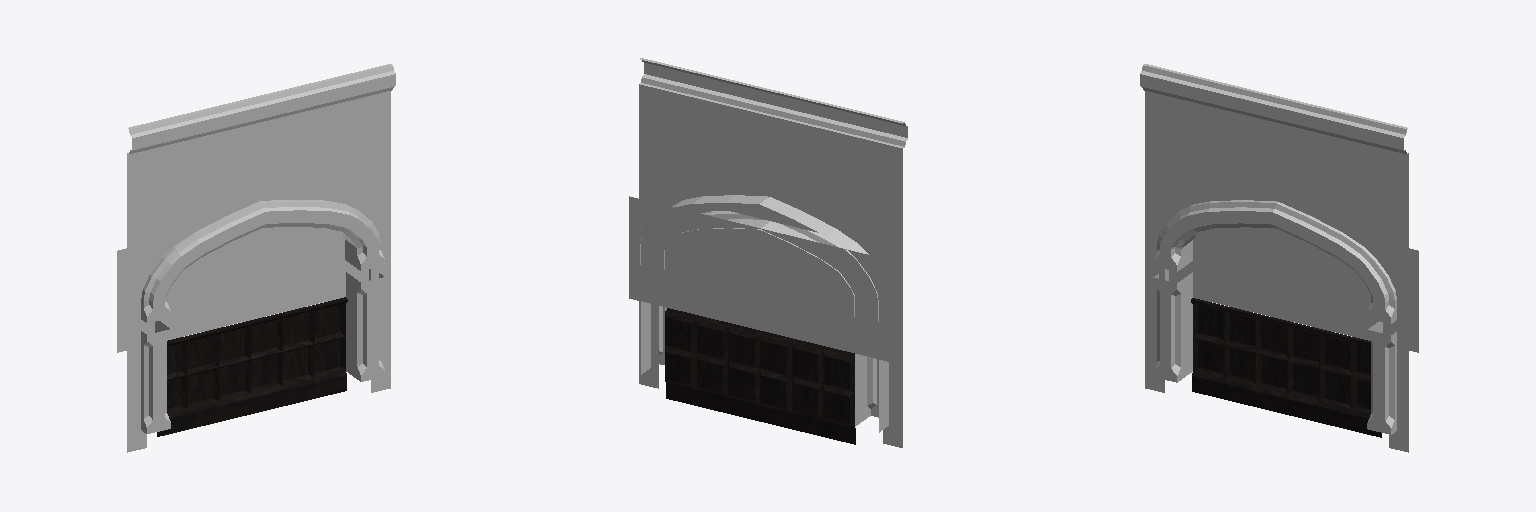
3 views of the same model, side by side, from view 1: azimuth 30°, elevation 25°; view 2: azimuth 150°, elevation 25°; view 3: azimuth 330°, elevation 25° (orthographic).
Visible parts, largest first — view 1: [Imported]_wall_plain_wall_plain; view 2: [Imported]_wall_plain_wall_plain; view 3: [Imported]_wall_plain_wall_plain.
Boxes of the visible parts, box(x1,y1,x2,y2) form: [Imported]_wall_plain_wall_plain: box(117, 64, 395, 452); [Imported]_wall_plain_wall_plain: box(629, 58, 907, 447); [Imported]_wall_plain_wall_plain: box(1140, 64, 1418, 452).
Size of the model in its own units: 10.9 by 12.8 by 1.26.
2 materials, 1 textured.